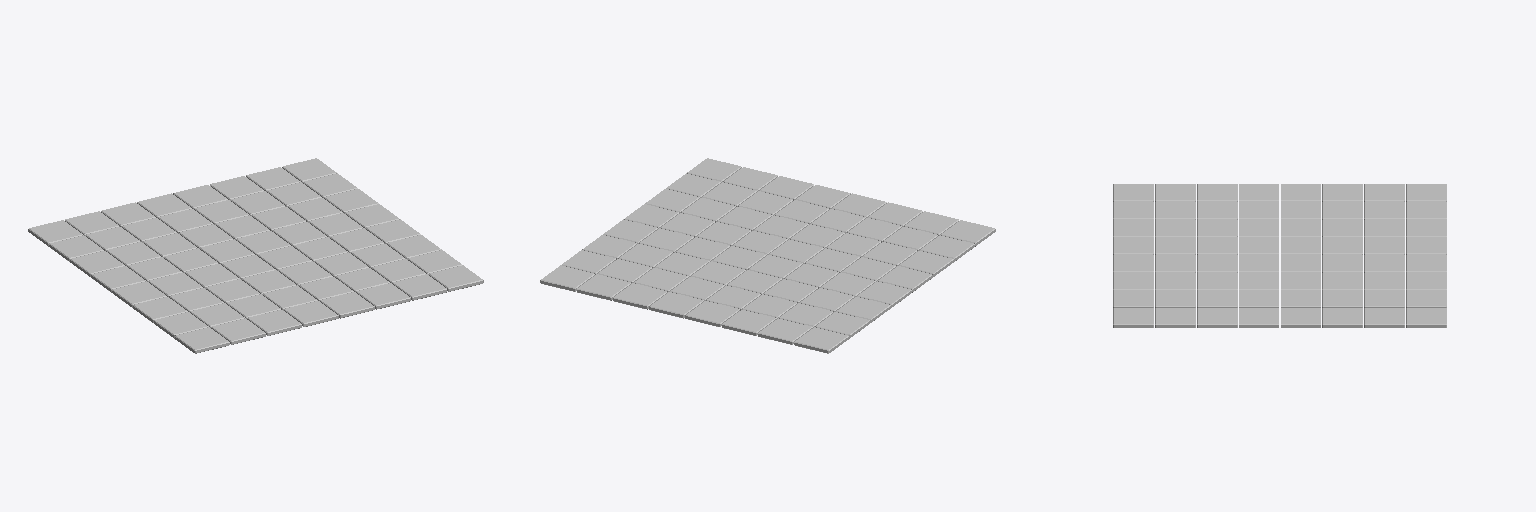
Rendered from board.obj.
3 renders of one model, left to right at view 1: azimuth 30°, elevation 25°; view 2: azimuth 150°, elevation 25°; view 3: azimuth 270°, elevation 25°, orthographic.
Visible parts, largest first — view 1: Cube; view 2: Cube; view 3: Cube.
Part boxes in pixels (x1,y1,x2,y2): Cube: (28, 158, 483, 353); Cube: (540, 158, 995, 353); Cube: (1113, 184, 1446, 327).
Bounding box in the file's own units: 8.18 × 0.1109 × 8.18.